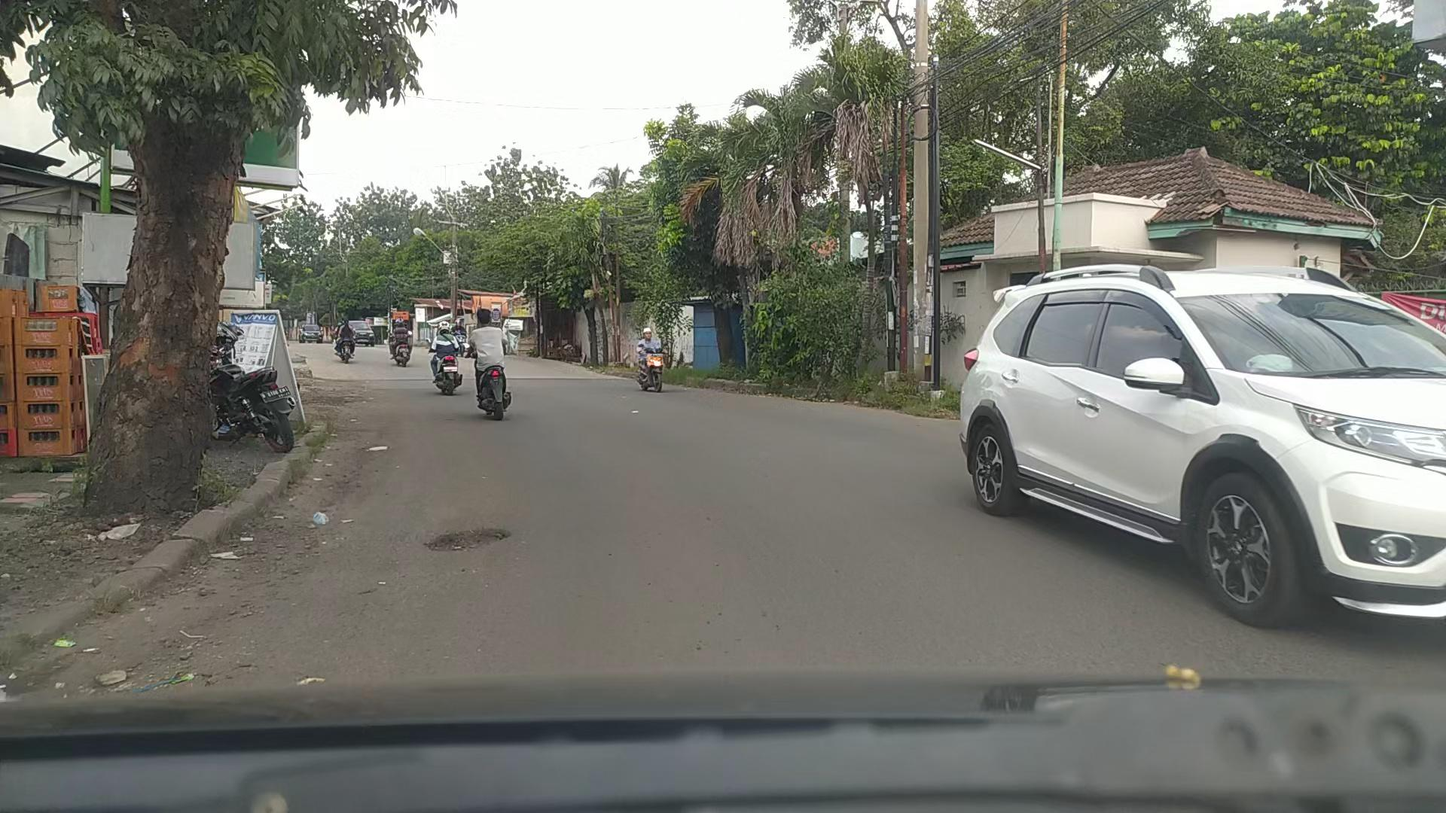pothole: (422, 527, 513, 554)
